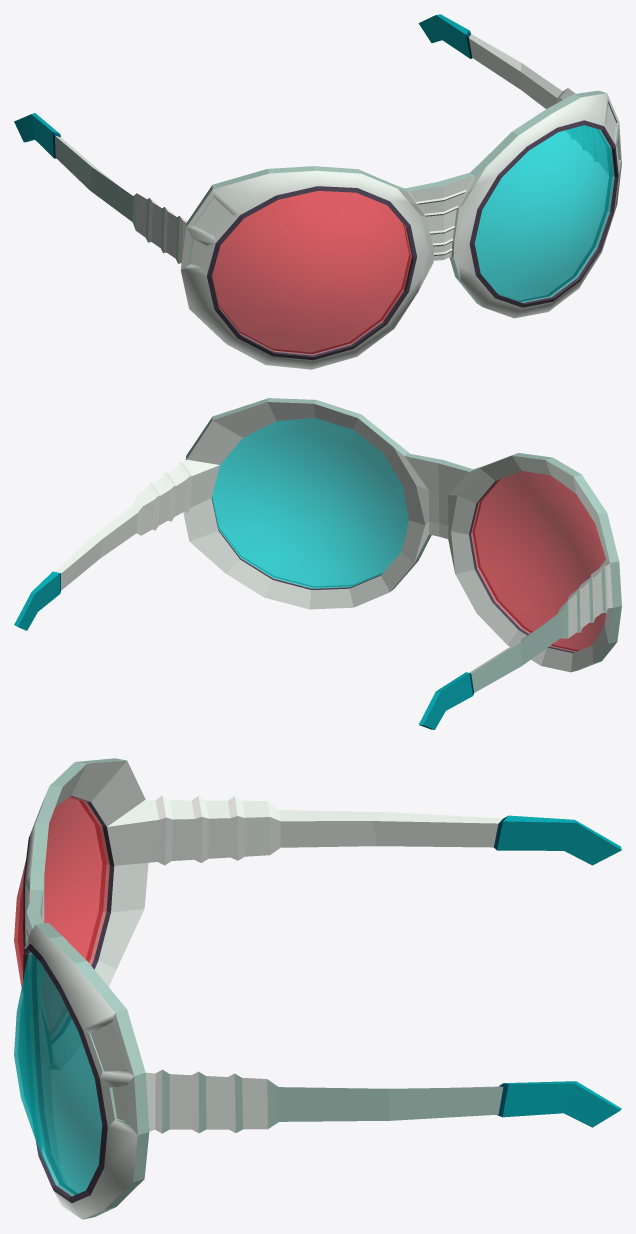
File: Eyewear_Raver.glb
The picture shows the model from 3 angles, top to bottom: view 1: azimuth 30°, elevation 25°; view 2: azimuth 150°, elevation 25°; view 3: azimuth 270°, elevation 25°; orthographic projection. The views are drawn at different scales.
Parts seen in each view (by area): view 1: Eyewear_Raver; view 2: Eyewear_Raver; view 3: Eyewear_Raver.
Part boxes in pixels (x1,y1,x2,y2): Eyewear_Raver: [14, 14, 621, 369]; Eyewear_Raver: [14, 398, 621, 729]; Eyewear_Raver: [14, 758, 621, 1219].
Size of what is drawn, in the model's own units: 0.8134 by 0.3572 by 0.7346.
2 materials, 2 textured.
